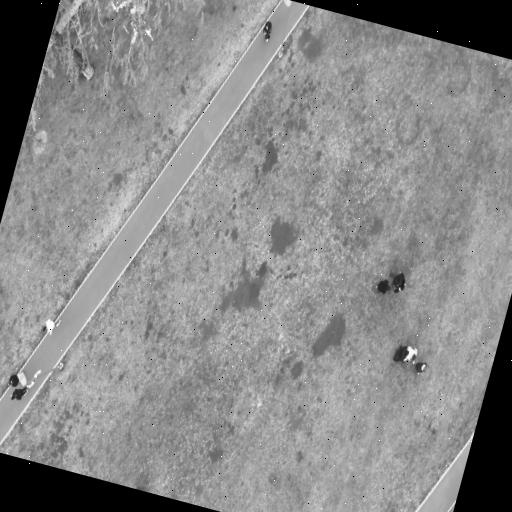person: (394, 346, 417, 364), (390, 273, 405, 293), (43, 319, 60, 335), (11, 386, 28, 401), (393, 273, 405, 293), (376, 280, 390, 294), (263, 21, 272, 42), (415, 362, 427, 374), (9, 375, 19, 387)
